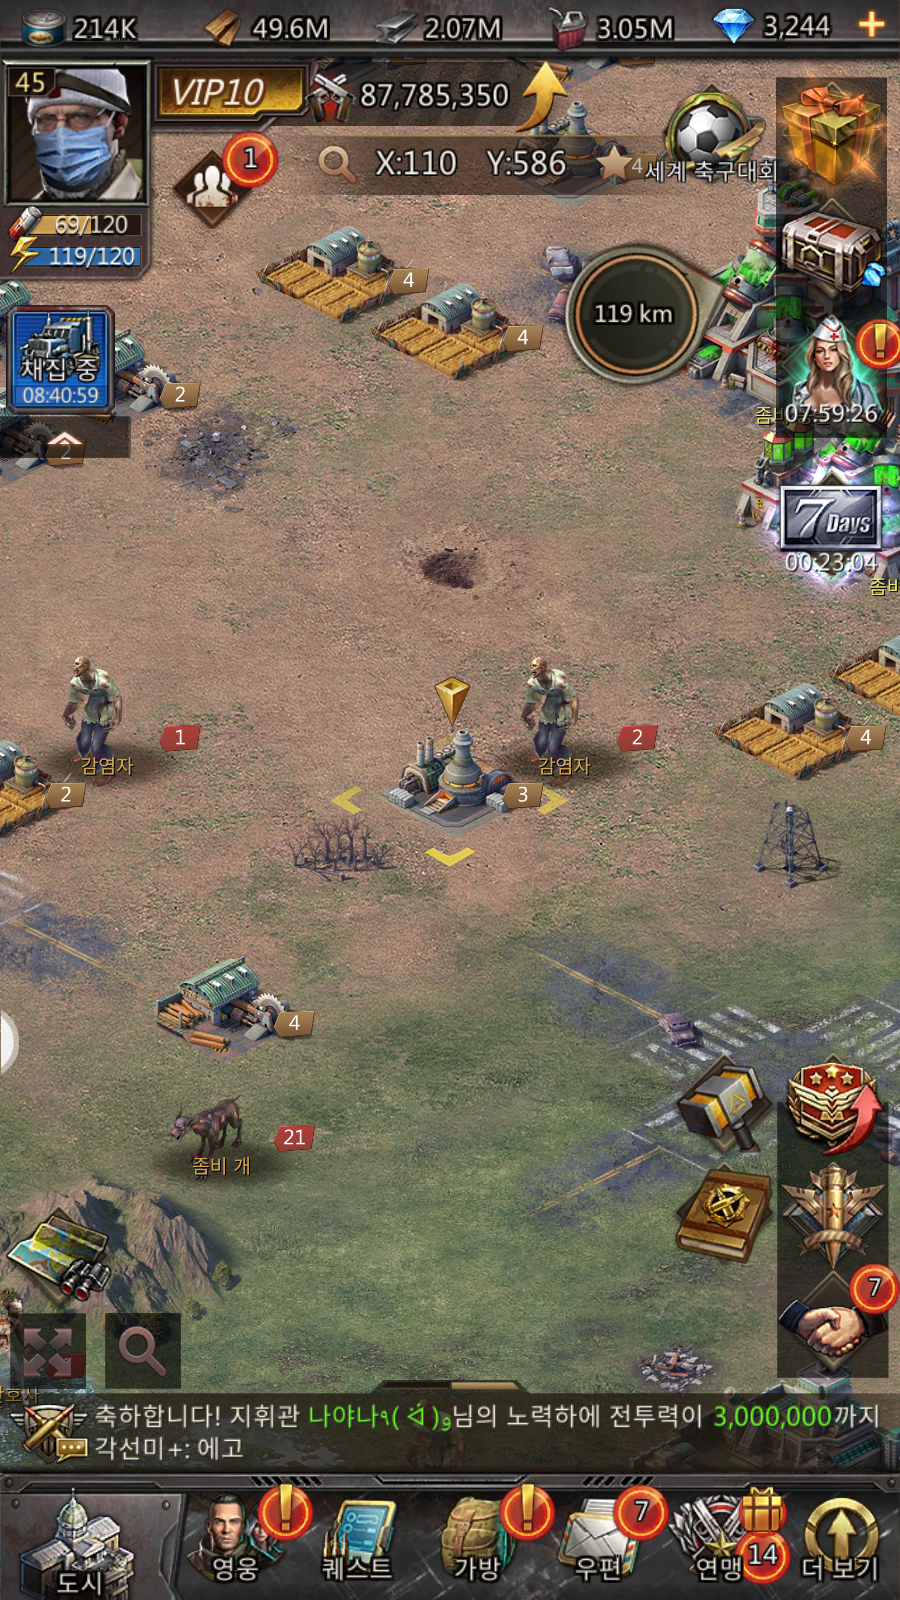city: (15, 1495, 176, 1600)
empty_steel: (322, 660, 585, 884)
open_panel: (95, 1304, 193, 1395)
troops_cnt_1: (155, 127, 291, 238)
